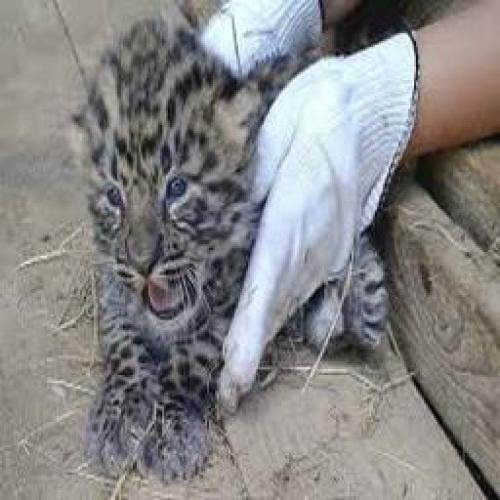amur_leopard-endangered: (78, 22, 394, 480)
